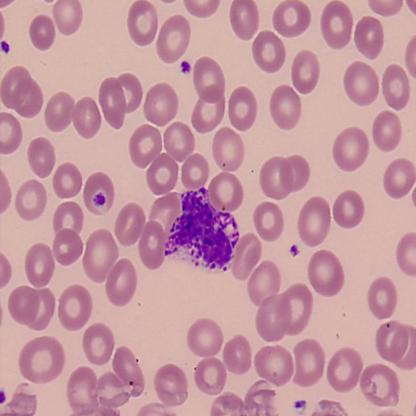Basophil: (162, 185, 241, 271)
